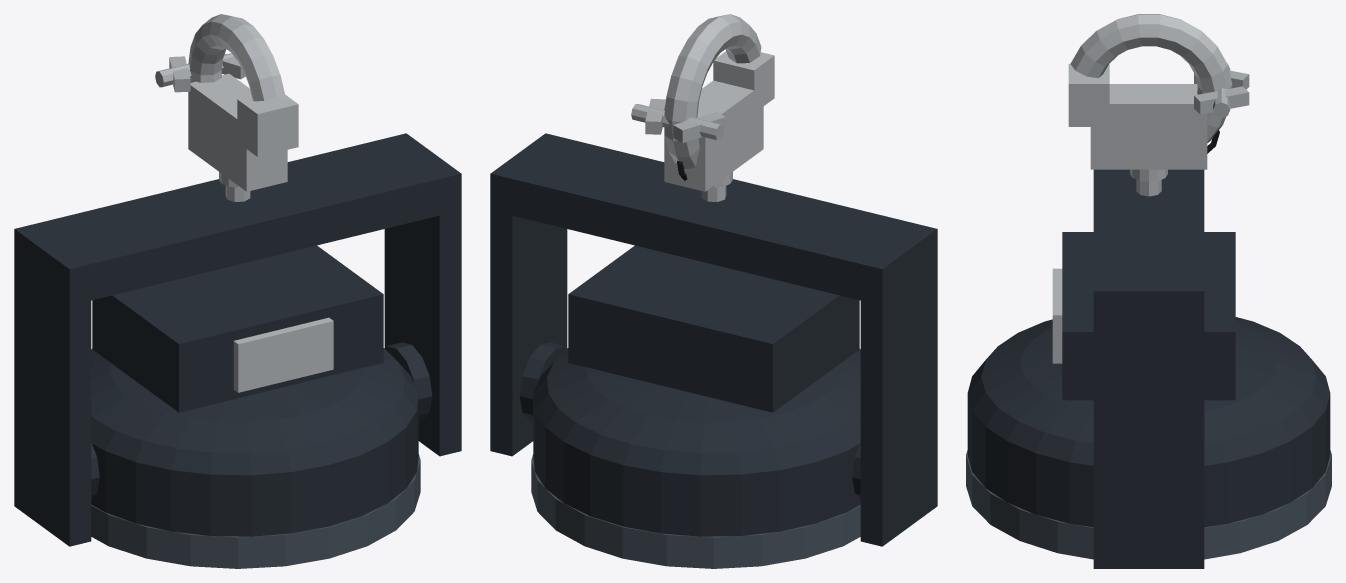
The model's file is flat-led-par.glb.
3 views of the same model, side by side, from view 1: azimuth 30°, elevation 25°; view 2: azimuth 150°, elevation 25°; view 3: azimuth 270°, elevation 25° (orthographic).
Parts seen in each view (by area): view 1: hanging-frame, body, driver-housing, truss-coupler, lens-ring, body-display, truss-coupler-bolt; view 2: hanging-frame, body, driver-housing, truss-coupler, lens-ring, truss-coupler-bolt; view 3: hanging-frame, body, truss-coupler, driver-housing, lens-ring, truss-coupler-bolt, body-display.
Part boxes in pixels (x1,y1,x2,y2): hanging-frame: (14,133,461,546); body: (91,348,418,536); driver-housing: (92,245,383,412); truss-coupler: (188,14,298,201); lens-ring: (91,454,420,568); body-display: (233,317,333,392); truss-coupler-bolt: (155,53,245,92); hanging-frame: (490,133,937,546); body: (533,348,860,536); driver-housing: (568,245,859,412); truss-coupler: (664,14,774,201); lens-ring: (531,454,860,568); truss-coupler-bolt: (631,98,725,142); hanging-frame: (1093,169,1204,568); body: (967,317,1330,527); truss-coupler: (1068,14,1232,196); driver-housing: (1062,232,1235,400); lens-ring: (966,450,1331,559); truss-coupler-bolt: (1194,63,1249,117); body-display: (1052,268,1062,363).
Bounding box in the file's own units: 0.2872 × 0.3319 × 0.232.
